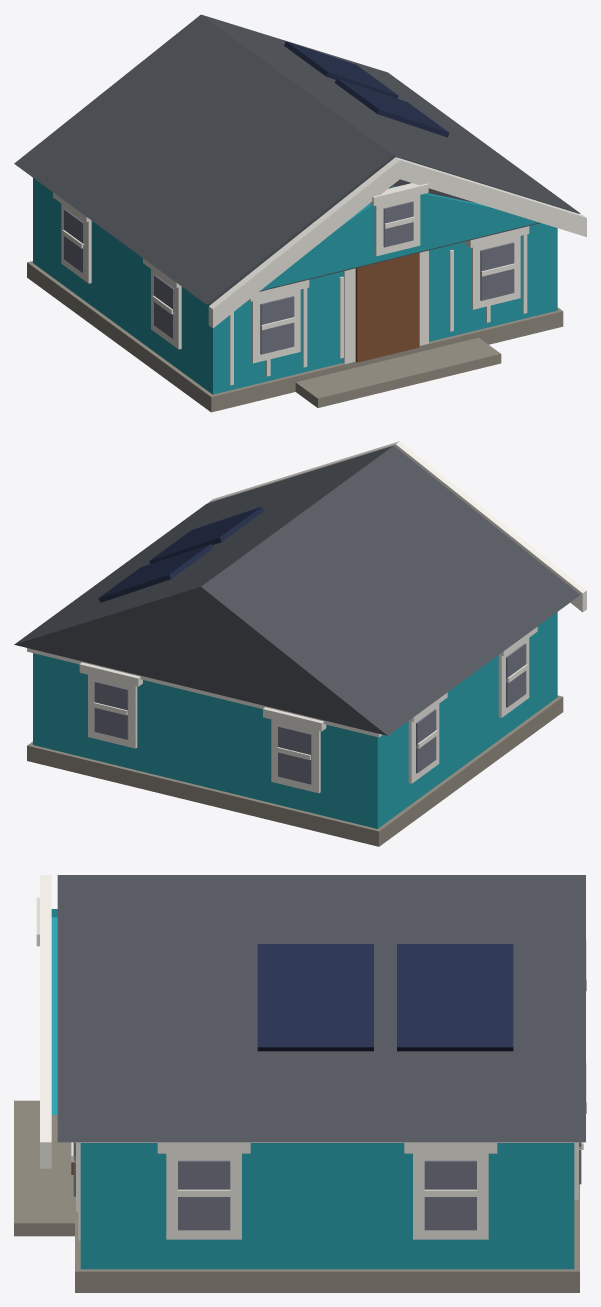
Rendered from house-1x1-1f-valparaiso-a-solar.glb.
The picture shows the model from 3 angles, top to bottom: view 1: azimuth 30°, elevation 25°; view 2: azimuth 150°, elevation 25°; view 3: azimuth 270°, elevation 25°; orthographic projection. The views are drawn at different scales.
Visible parts, largest first — view 1: house-1x1-1f-valparaiso-a-solar; view 2: house-1x1-1f-valparaiso-a-solar; view 3: house-1x1-1f-valparaiso-a-solar.
Boxes of the visible parts, box(x1,y1,x2,y2) form: house-1x1-1f-valparaiso-a-solar: box(14, 14, 586, 412); house-1x1-1f-valparaiso-a-solar: box(14, 441, 586, 846); house-1x1-1f-valparaiso-a-solar: box(14, 875, 586, 1292).
Size of the model in its own units: 1.02 by 0.57 by 0.987.
1 material, 1 textured.
